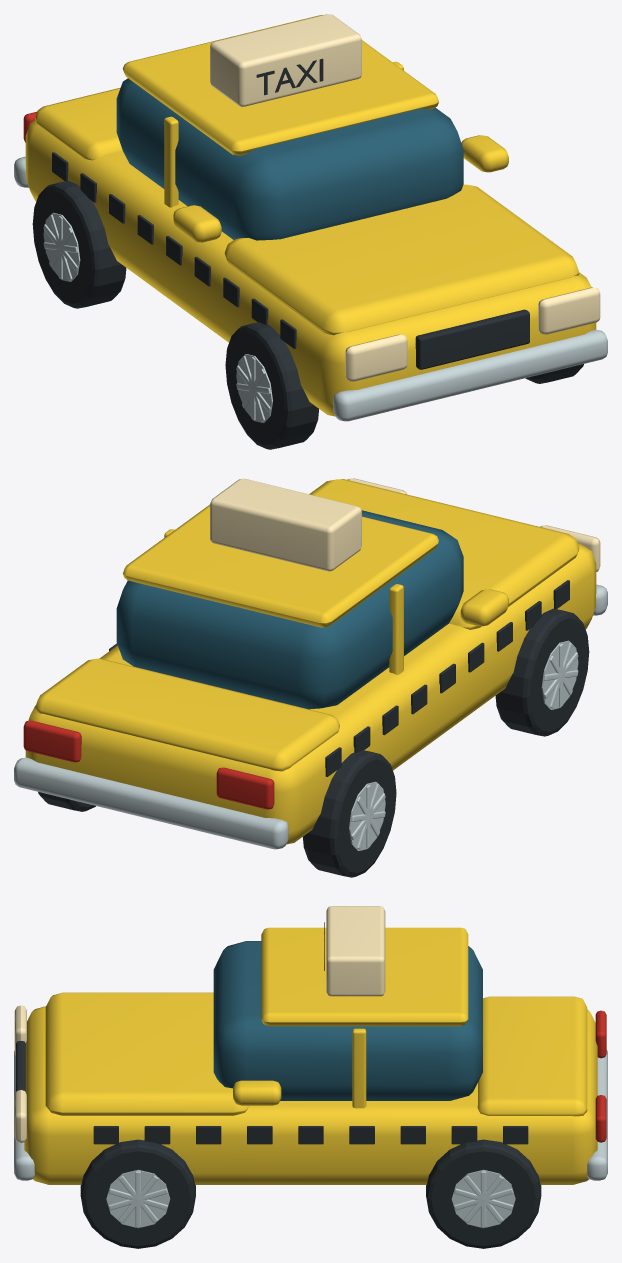
Rendered from sunbeam-taxi.glb.
3 renders of one model, top to bottom at view 1: azimuth 30°, elevation 25°; view 2: azimuth 150°, elevation 25°; view 3: azimuth 270°, elevation 25°, orthographic. The views are drawn at different scales.
Visible parts, largest first — view 1: sunbeam-taxi paint, Midnight blue glass.001, Ivory headlights.001, TireMeshFL, TireMeshRL, Satin alloy.001, Rubber.001; view 2: sunbeam-taxi paint, Midnight blue glass.001, Ivory headlights.001, TireMeshRL, TireMeshFL, Satin alloy.001, Red tail lamps.001, Rubber.001; view 3: sunbeam-taxi paint, Midnight blue glass.001, TireMeshFR, TireMeshRR, Ivory headlights.001, Rubber.001, Satin alloy.001, Red tail lamps.001.
Part boxes in pixels (left/top/right/bottom): sunbeam-taxi paint: left=25, top=15, right=596, bottom=416; Midnight blue glass.001: left=116, top=78, right=463, bottom=240; Ivory headlights.001: left=210, top=14, right=600, bottom=381; TireMeshFL: left=223, top=277, right=318, bottom=449; TireMeshRL: left=32, top=173, right=126, bottom=308; Satin alloy.001: left=14, top=156, right=607, bottom=421; Rubber.001: left=52, top=58, right=529, bottom=369; sunbeam-taxi paint: left=25, top=479, right=596, bottom=844; Midnight blue glass.001: left=116, top=510, right=463, bottom=709; Ivory headlights.001: left=210, top=478, right=600, bottom=571; TireMeshRL: left=303, top=705, right=398, bottom=877; TireMeshFL: left=495, top=601, right=589, bottom=736; Satin alloy.001: left=14, top=584, right=607, bottom=849; Red tail lamps.001: left=23, top=720, right=274, bottom=809; Rubber.001: left=325, top=580, right=569, bottom=776; sunbeam-taxi paint: left=24, top=927, right=597, bottom=1184; Midnight blue glass.001: left=213, top=941, right=482, bottom=1100; TireMeshFR: left=80, top=1126, right=221, bottom=1248; TireMeshRR: left=400, top=1126, right=541, bottom=1248; Ivory headlights.001: left=14, top=906, right=385, bottom=1142; Rubber.001: left=16, top=922, right=528, bottom=1144; Satin alloy.001: left=14, top=1049, right=607, bottom=1180; Red tail lamps.001: left=595, top=1010, right=606, bottom=1142.
Size of the model in its own units: 2.55 by 2.18 by 4.64.
